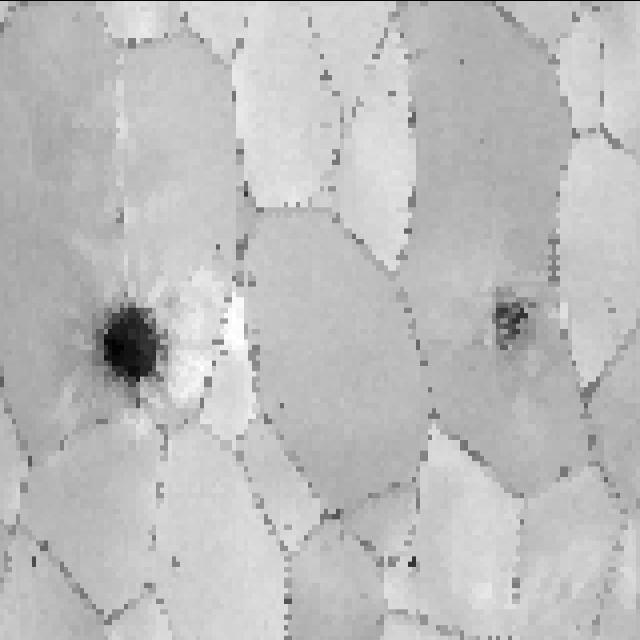good_void: (85, 288, 172, 413), (474, 265, 545, 367), (556, 459, 570, 481), (405, 554, 419, 571), (166, 554, 180, 570), (386, 84, 399, 101), (603, 304, 621, 316)
